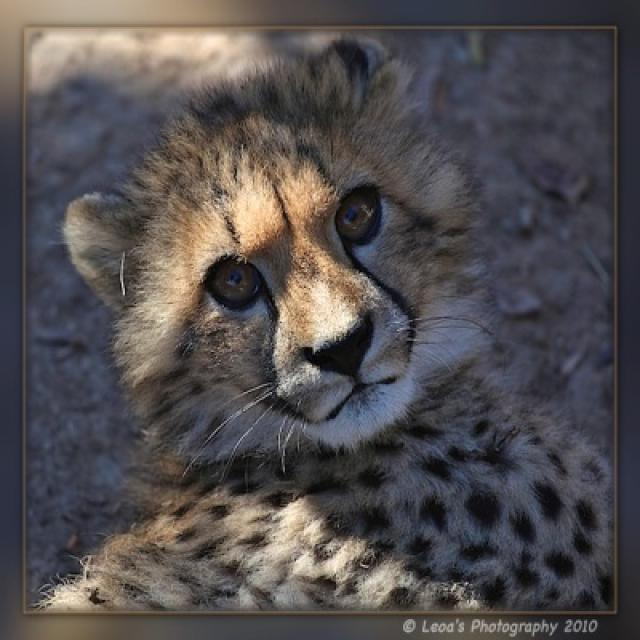Cheetah: (37, 40, 615, 609)
